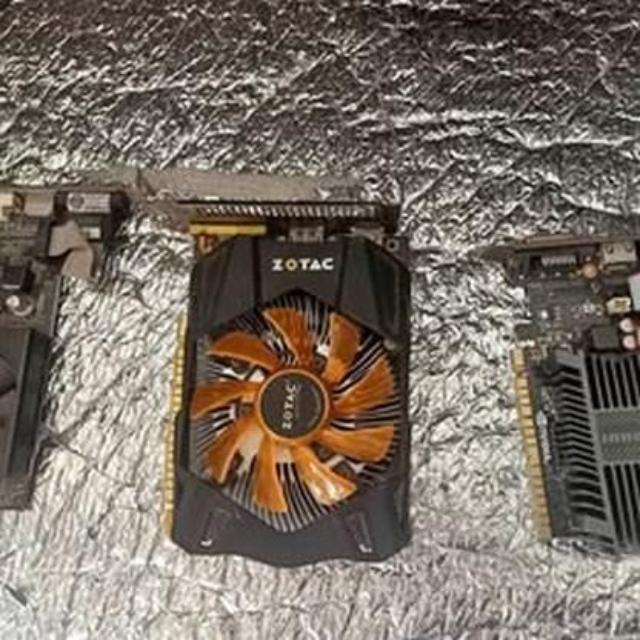GPU: (162, 194, 422, 568), (477, 229, 640, 560)
